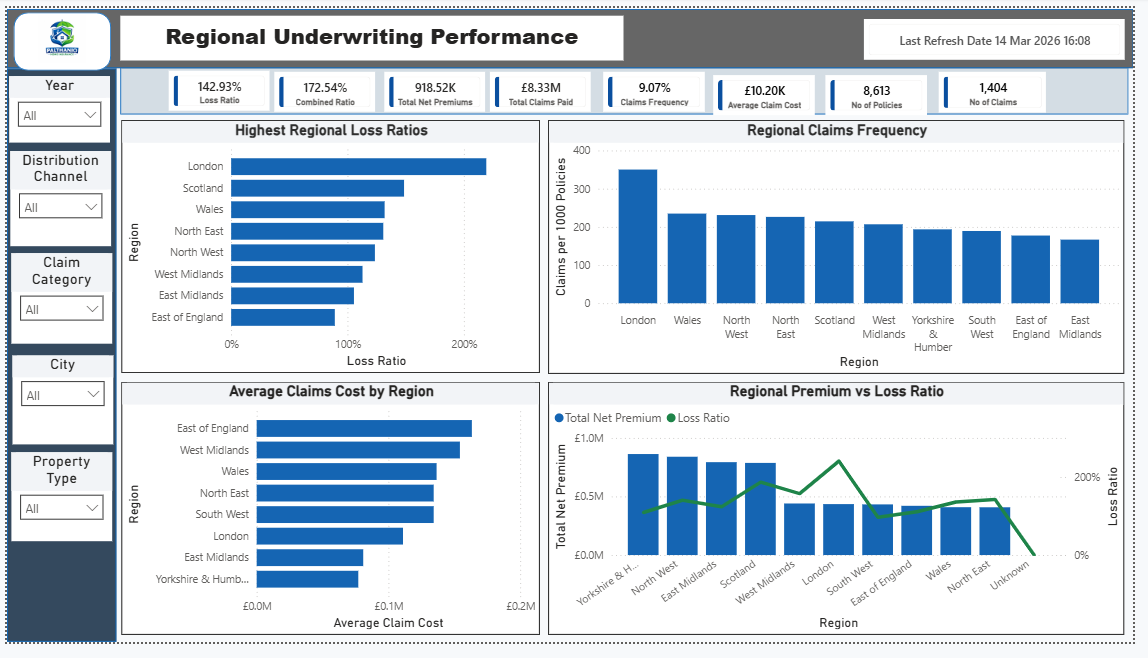

Layout of this report page (visuals, bound fields, positions):
{"tool":"powerbi","page":{"name":"Regional Underwriting Performance","canvas":[1280,720],"ordinal":5},"visuals":[{"type":"group","id":"g1","title":"KPIs ","box":[129.1,67.8,1145.7,54.5],"z":0},{"type":"shape","title":"KPI Background","box":[129.1,67.8,1145.7,53.5],"z":0,"group":"g1"},{"type":"cardVisual","title":"Total Revenue","fields":{"Data":["_Measures.Loss Ratio"]},"box":[183.7,71.5,114.2,45],"z":1000,"group":"g1"},{"type":"cardVisual","title":"Average Claim Cost","fields":{"Data":["_Measures.No of Claims (Report)"]},"box":[1058.9,72.2,122.2,46.7],"z":1000},{"type":"cardVisual","title":"Total Claims Paid","fields":{"Data":["_Measures.Combined Ratio"]},"box":[303.7,72.6,114.2,45],"z":2000,"group":"g1"},{"type":"lineClusteredColumnComboChart","title":"Regional Premium vs Loss Ratio","fields":{"Category":["gold dim_address.Region"],"Y":["_Measures.Total Net Premium"],"Y2":["_Measures.Loss Ratio"]},"box":[615.4,425.3,654.8,286.9],"z":2000},{"type":"cardVisual","title":"Claims Frequency","fields":{"Data":["_Measures.Average Claim Cost"]},"box":[803.3,75.9,115,45],"z":3000,"group":"g1"},{"type":"clusteredColumnChart","title":"Regional Claims Frequency","fields":{"Category":["gold dim_address.Region"],"Y":["_Measures.Claims per 1000 Policies"]},"box":[615.4,127.1,654.8,288],"z":3000},{"type":"cardVisual","title":"Loss Ratio","fields":{"Data":["_Measures.Claims Frequency"]},"box":[677.5,72.6,115,45],"z":4000,"group":"g1"},{"type":"clusteredBarChart","title":"Average Claims Cost by Region","fields":{"Category":["gold dim_address.Region"],"Y":["_Measures.Average Claim Cost"]},"box":[130.5,425.3,475.9,286.9],"z":4000},{"type":"cardVisual","title":"No. Of Active Policies","fields":{"Data":["_Measures.Total Net Premiums (Report)"]},"box":[428.7,72.6,114.2,45],"z":5000,"group":"g1"},{"type":"clusteredBarChart","title":"Highest Regional Loss Ratios","fields":{"Category":["gold dim_address.Region"],"Y":["_Measures.Loss Ratio"]},"box":[130.5,127.1,475.9,286.9],"z":5000},{"type":"shape","title":"Deep Blue Header ","box":[0,68.6,124.3,651.4],"z":6000},{"type":"cardVisual","title":"No. Of Claims","fields":{"Data":["_Measures.Total Claims Paid (Report)"]},"box":[549.1,72.6,114.2,45],"z":6000,"group":"g1"},{"type":"shape","title":"Deep Blue Header ","box":[0,1.4,1280,67.1],"z":7000},{"type":"cardVisual","title":"Average Claim Cost","fields":{"Data":["_Measures.No of Policies"]},"box":[930,76.8,115.6,45.6],"z":7000,"group":"g1"},{"type":"textbox","title":"Executive Summary","box":[129.2,8.5,571.5,50.8],"z":8000},{"type":"shape","title":"Logo Background","box":[6.9,5.4,110.8,66.2],"z":9000},{"type":"image","title":"Logo","box":[19.4,8.2,85.3,54.1],"z":10000},{"type":"slicer","title":"Year","fields":{"Values":["gold dim_date.YearNumber"]},"box":[2.7,77.3,114.5,75.5],"z":11000},{"type":"slicer","title":"Claim Category","fields":{"Values":["gold dim_claim_type.ClaimType"]},"box":[5.5,279.1,114.5,102.7],"z":12000},{"type":"slicer","title":"City","fields":{"Values":["gold dim_address.City"]},"box":[6.7,394.4,114.4,101.1],"z":13000},{"type":"slicer","title":"Distribution Channel","fields":{"Values":["gold dim_broker.Channel"]},"box":[3.6,162.7,114.5,108.2],"z":14000},{"type":"cardVisual","title":"Average Claim Cost","fields":{"Data":["_Measures.Last Refresh Date"]},"box":[973.3,12.2,296.7,46.7],"z":15000},{"type":"slicer","title":"Property Type","fields":{"Values":["gold dim_address.PropertyType"]},"box":[5.6,504.4,114.4,101.1],"z":16000}]}

Visuals, with their boxes in screenshot pixels (x1, y1, x2, y2), scaled from the page's 1280x720 canvas onto the 1148x658 screenshot:
"KPIs " group: x1=116, y1=62, x2=1143, y2=112
"KPI Background" shape: x1=116, y1=62, x2=1143, y2=111
"Total Revenue" cardVisual: x1=165, y1=65, x2=267, y2=106
"Average Claim Cost" cardVisual: x1=950, y1=66, x2=1059, y2=109
"Total Claims Paid" cardVisual: x1=272, y1=66, x2=375, y2=107
"Regional Premium vs Loss Ratio" lineClusteredColumnComboChart: x1=552, y1=389, x2=1139, y2=651
"Claims Frequency" cardVisual: x1=720, y1=69, x2=824, y2=110
"Regional Claims Frequency" clusteredColumnChart: x1=552, y1=116, x2=1139, y2=379
"Loss Ratio" cardVisual: x1=608, y1=66, x2=711, y2=107
"Average Claims Cost by Region" clusteredBarChart: x1=117, y1=389, x2=544, y2=651
"No. Of Active Policies" cardVisual: x1=384, y1=66, x2=487, y2=107
"Highest Regional Loss Ratios" clusteredBarChart: x1=117, y1=116, x2=544, y2=378
"Deep Blue Header " shape: x1=0, y1=63, x2=111, y2=657
"No. Of Claims" cardVisual: x1=492, y1=66, x2=595, y2=107
"Deep Blue Header " shape: x1=0, y1=1, x2=1147, y2=63
"Average Claim Cost" cardVisual: x1=834, y1=70, x2=938, y2=112
"Executive Summary" textbox: x1=116, y1=8, x2=628, y2=54
"Logo Background" shape: x1=6, y1=5, x2=106, y2=65
"Logo" image: x1=17, y1=7, x2=94, y2=57
"Year" slicer: x1=2, y1=71, x2=105, y2=140
"Claim Category" slicer: x1=5, y1=255, x2=108, y2=349
"City" slicer: x1=6, y1=360, x2=109, y2=453
"Distribution Channel" slicer: x1=3, y1=149, x2=106, y2=248
"Average Claim Cost" cardVisual: x1=873, y1=11, x2=1139, y2=54
"Property Type" slicer: x1=5, y1=461, x2=108, y2=553
